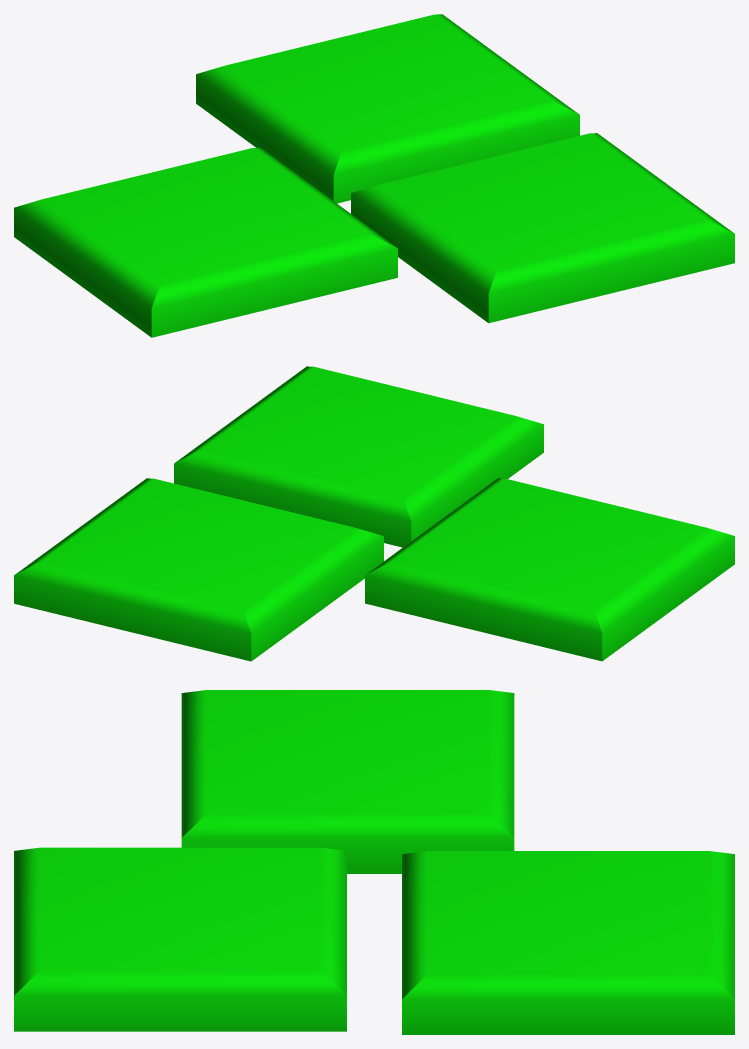
File: m_rubble1.fbx
3 renders of one model, top to bottom at view 1: azimuth 30°, elevation 25°; view 2: azimuth 150°, elevation 25°; view 3: azimuth 270°, elevation 25°, orthographic. The views are drawn at different scales.
Parts seen in each view (by area): view 1: m_rubble1; view 2: m_rubble1; view 3: m_rubble1.
Boxes of the visible parts, x1,y1,x2,y2 form: m_rubble1: [14, 14, 734, 337]; m_rubble1: [14, 366, 734, 661]; m_rubble1: [14, 690, 734, 1034].
Bounding box in the file's own units: 1.03 × 0.0774 × 1.02.
